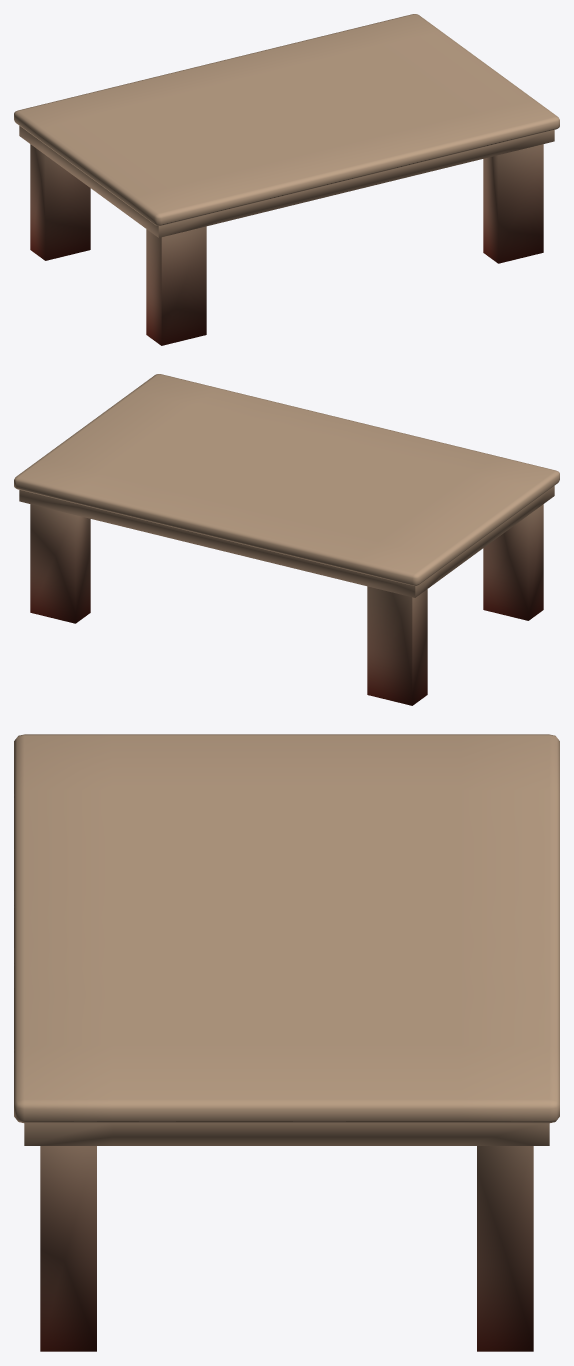
Rendered from Desk.fbx.
3 views of the same model, one above another, from view 1: azimuth 30°, elevation 25°; view 2: azimuth 150°, elevation 25°; view 3: azimuth 270°, elevation 25° (orthographic). The views are drawn at different scales.
Visible parts, largest first — view 1: Desk; view 2: Desk; view 3: Desk.
Part boxes in pixels (x1,y1,x2,y2): Desk: [14, 14, 559, 345]; Desk: [14, 374, 559, 705]; Desk: [14, 734, 559, 1351].
Size of the model in its own units: 1.22 by 0.3963 by 0.7586.
